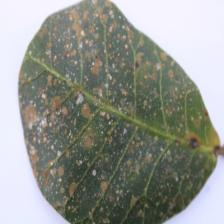red rust: (19, 0, 223, 223)
